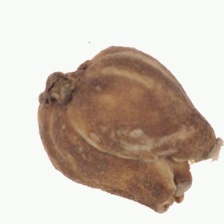L1: (163, 138, 224, 217), (39, 53, 97, 102)
L2: (38, 46, 224, 217)
